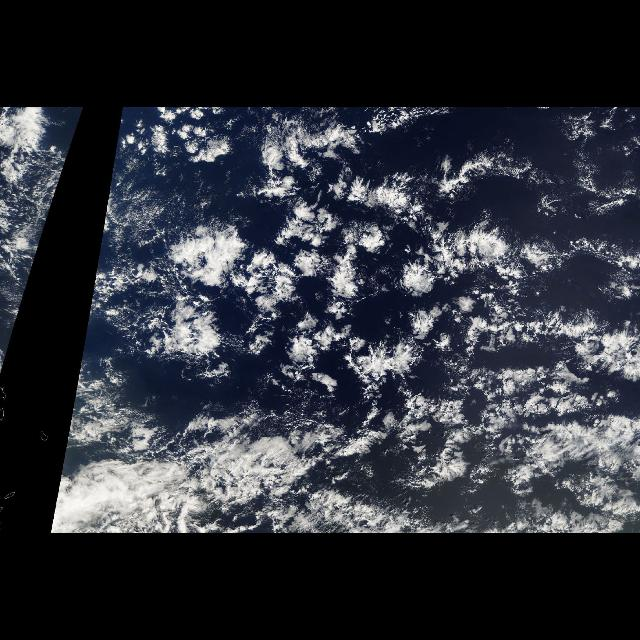Flower: (126, 110, 640, 528)
